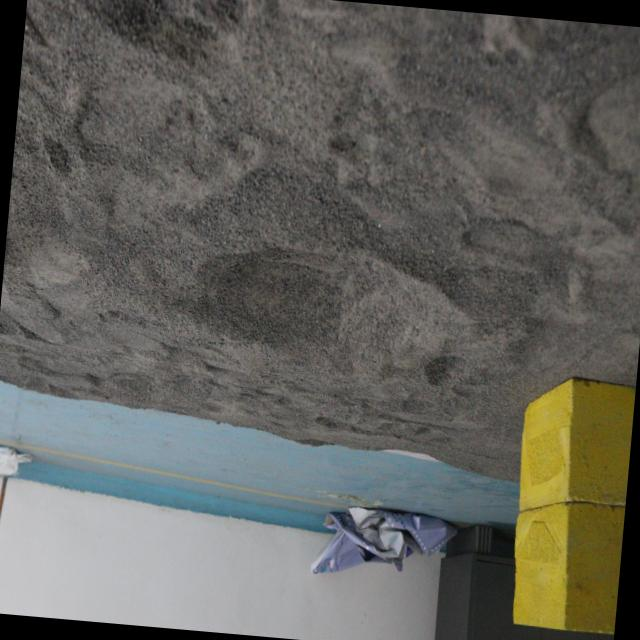box: (502, 376, 636, 640)
crater: (198, 215, 479, 394)
